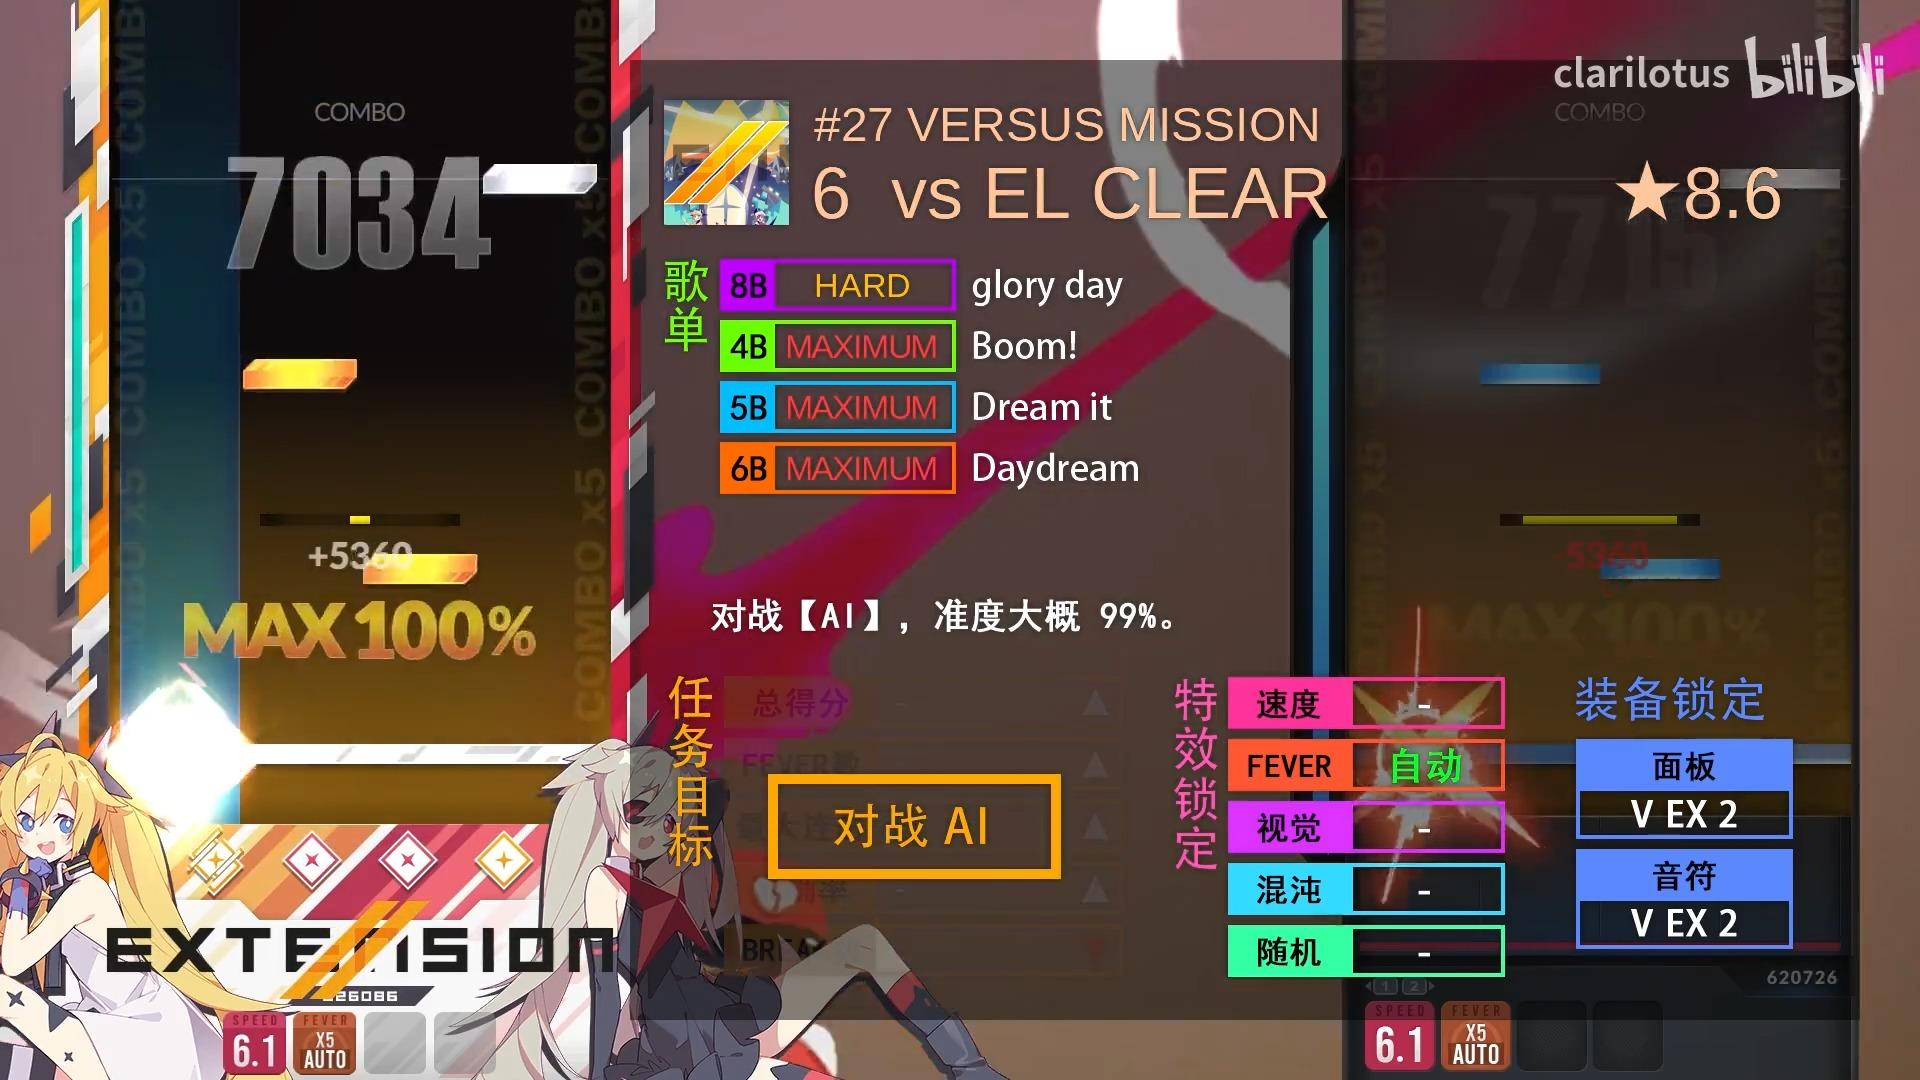note: (243, 357, 359, 390), (363, 554, 477, 587), (481, 162, 597, 194)
